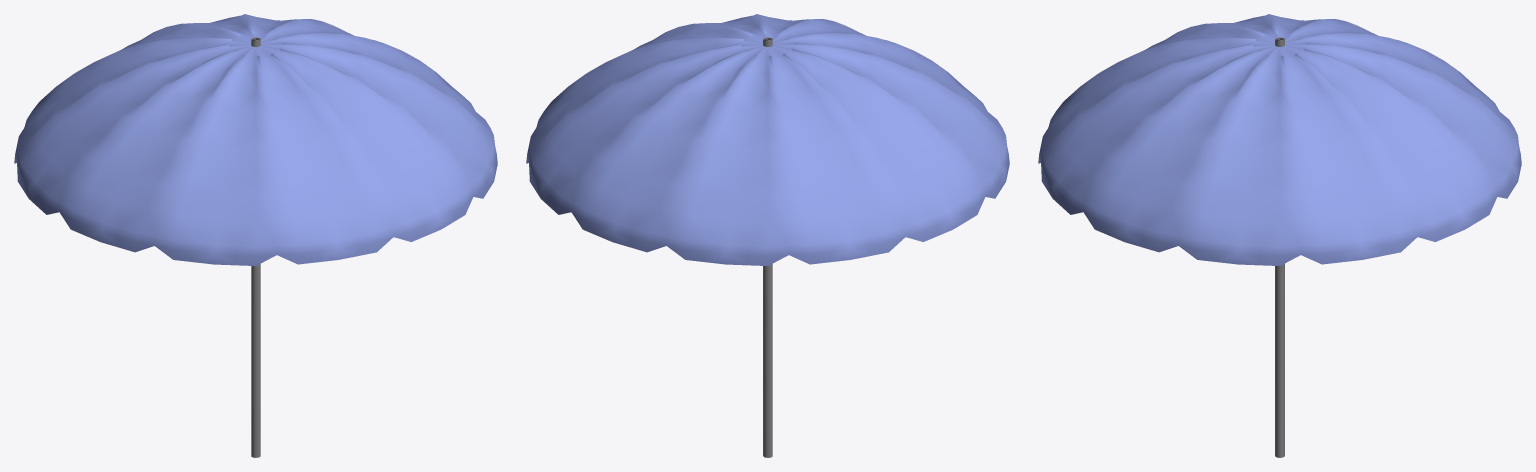
The model's file is parasol.dae.
3 views of the same model, side by side, from view 1: azimuth 30°, elevation 25°; view 2: azimuth 150°, elevation 25°; view 3: azimuth 270°, elevation 25° (orthographic).
Visible parts, largest first — view 1: tissu, tige; view 2: tissu, tige; view 3: tissu, tige.
Part boxes in pixels (bbox=[...]): tissu: bbox=[14, 14, 497, 265]; tige: bbox=[251, 37, 260, 457]; tissu: bbox=[526, 14, 1009, 265]; tige: bbox=[763, 37, 772, 457]; tissu: bbox=[1038, 14, 1521, 265]; tige: bbox=[1275, 37, 1284, 457].
Size of the model in its own units: 1.54 by 1.54 by 1.47.
